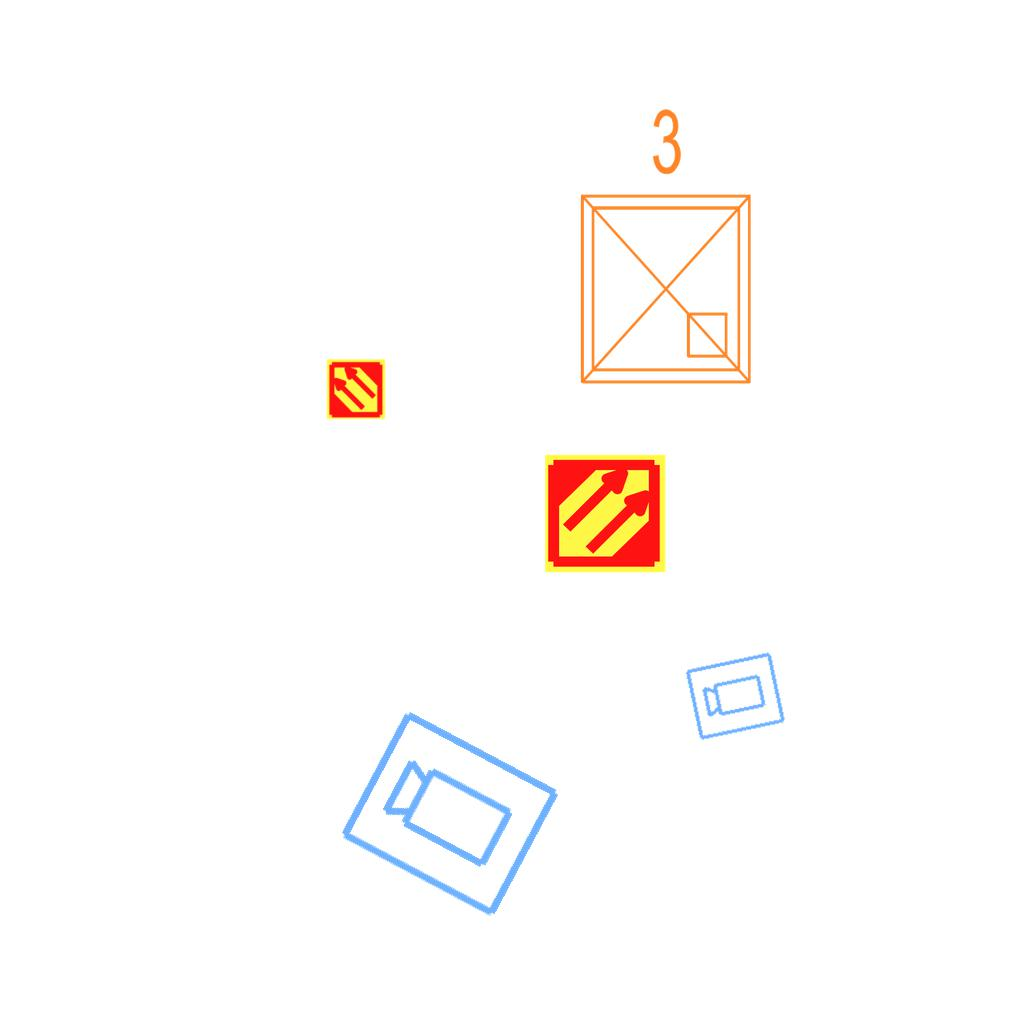ASR_Ansaugrauchmelder: (543, 451, 668, 576), (325, 358, 387, 420)
Einbaudownlights_LED_Konferenzraeume: (558, 98, 766, 398)
KFO_Kamera_mit_Festobjektiv: (334, 702, 568, 924), (682, 648, 789, 743)
